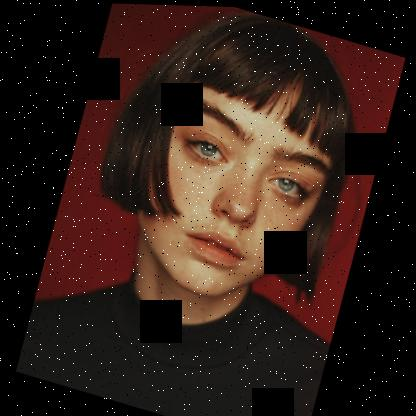Female: (120, 43, 351, 319)
